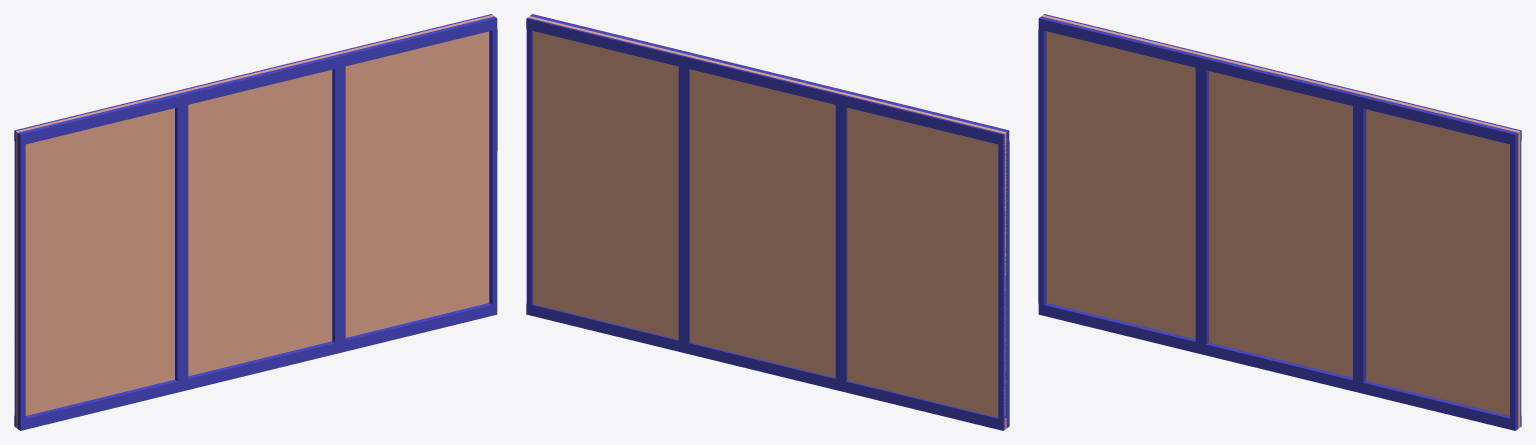
Rendered from ventanalSimple.DAE.
The picture shows the model from 3 angles, left to right: view 1: azimuth 30°, elevation 25°; view 2: azimuth 150°, elevation 25°; view 3: azimuth 330°, elevation 25°; orthographic projection.
Visible parts, largest first — view 1: modulo3Ventanas002; view 2: modulo3Ventanas002; view 3: modulo3Ventanas002.
Boxes of the visible parts, x1,y1,x2,y2 form: modulo3Ventanas002: [14, 14, 497, 430]; modulo3Ventanas002: [526, 14, 1009, 430]; modulo3Ventanas002: [1038, 14, 1521, 430].
Bounding box in the file's own units: 4.55 × 2.7 × 0.1004.
